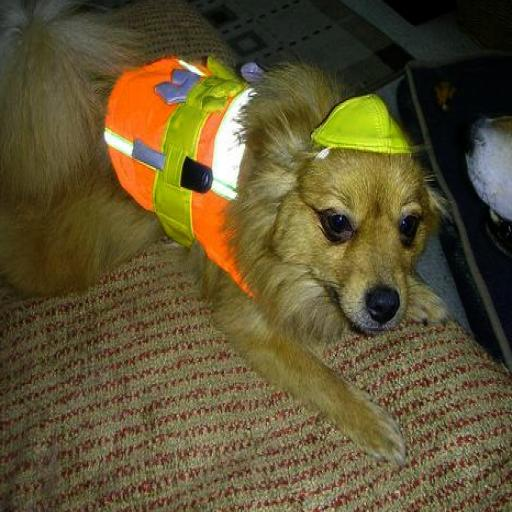dog_face: (293, 136, 442, 347)
